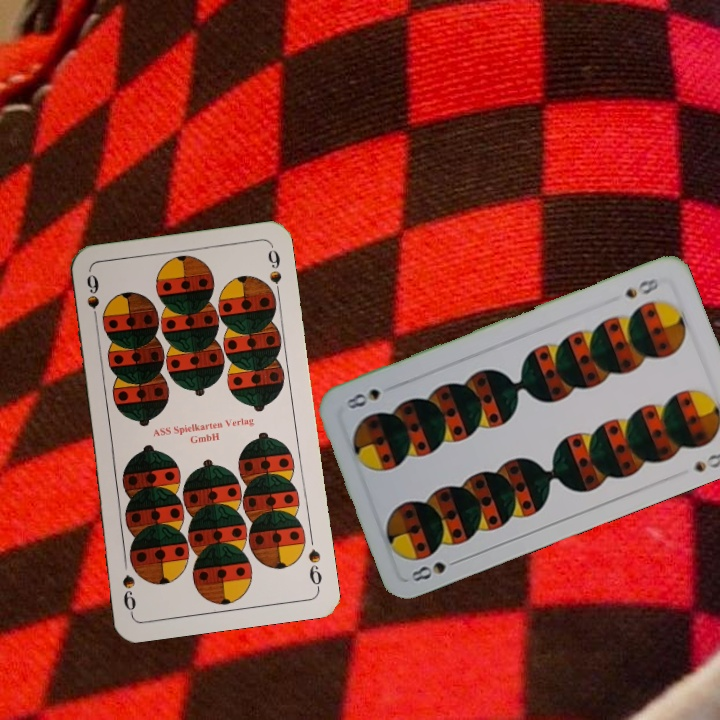S8: (407, 554, 464, 587), (620, 274, 661, 301)
S9: (82, 270, 102, 329), (304, 545, 324, 592)
